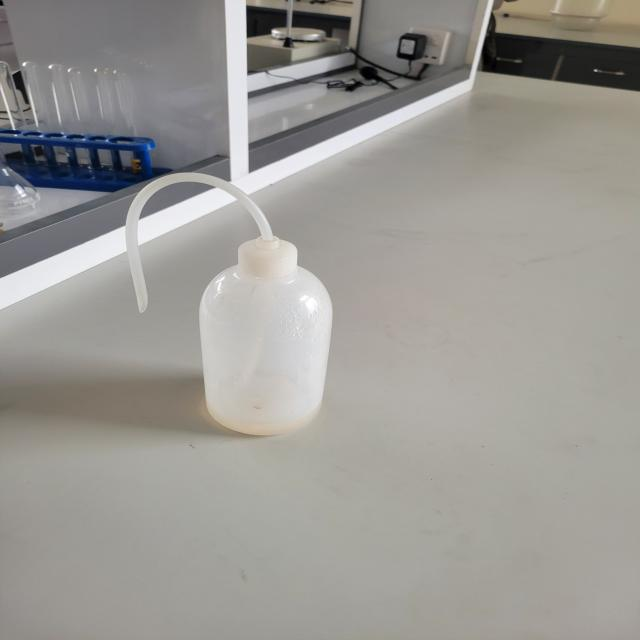Wash_Bottle: (89, 142, 370, 462)
